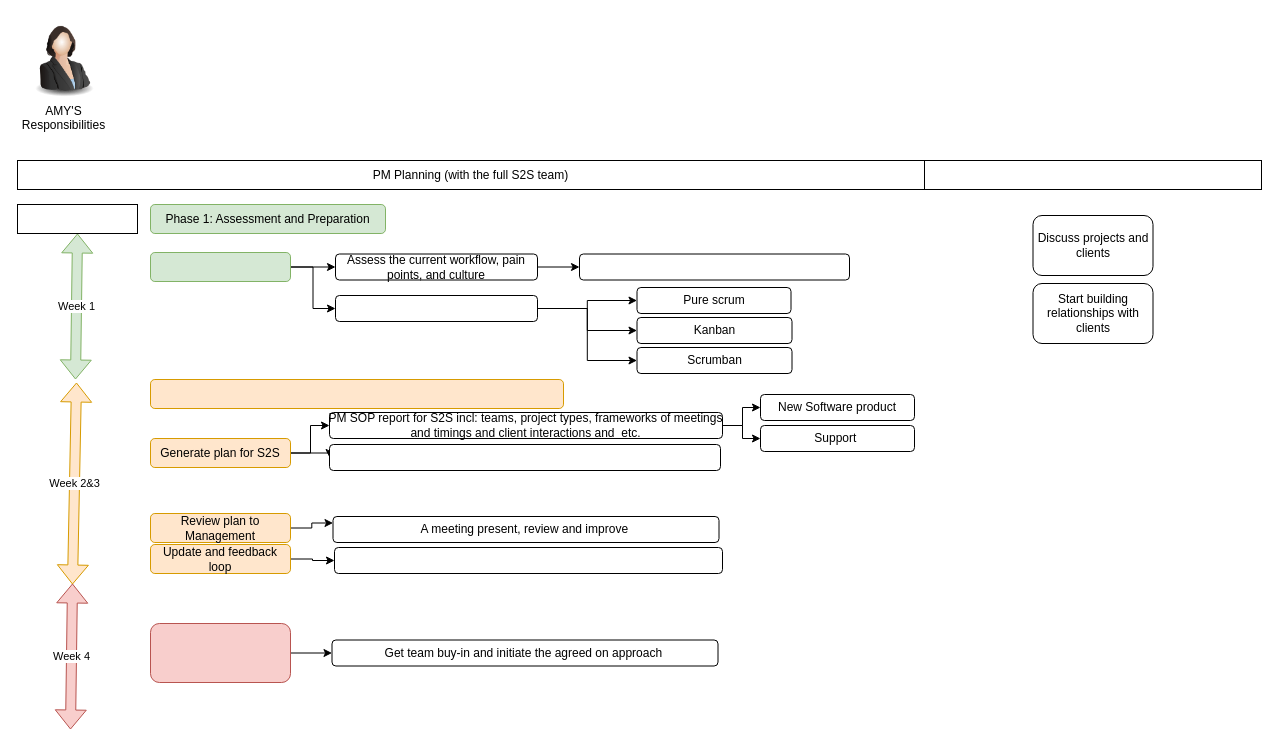
This 1279x746 diagram has some shape labels left out. The box of each missing label's shape, as (x1, y1, x2, y2) in pixels:
Assess the best PM approach for Stock2Shop projects: (334, 294, 538, 322)
Generate GitHub templates for the practical management each project type: (328, 444, 720, 470)
Meet teams and discuss current approach what works, doesn't work etc.: (578, 253, 850, 280)
Month 1: (16, 204, 138, 234)
Output is a project planning SOP report with practical usable templates linked: (334, 546, 722, 574)
Phase 2: Identify key stakeholders and create fit for purpose PM approach: (150, 378, 564, 408)
PO responsibilities (individual projects): (924, 160, 1262, 190)
Provide initial trainings with full team on the new PM approach: (150, 622, 290, 682)
Stock2shop context: (150, 252, 290, 282)
